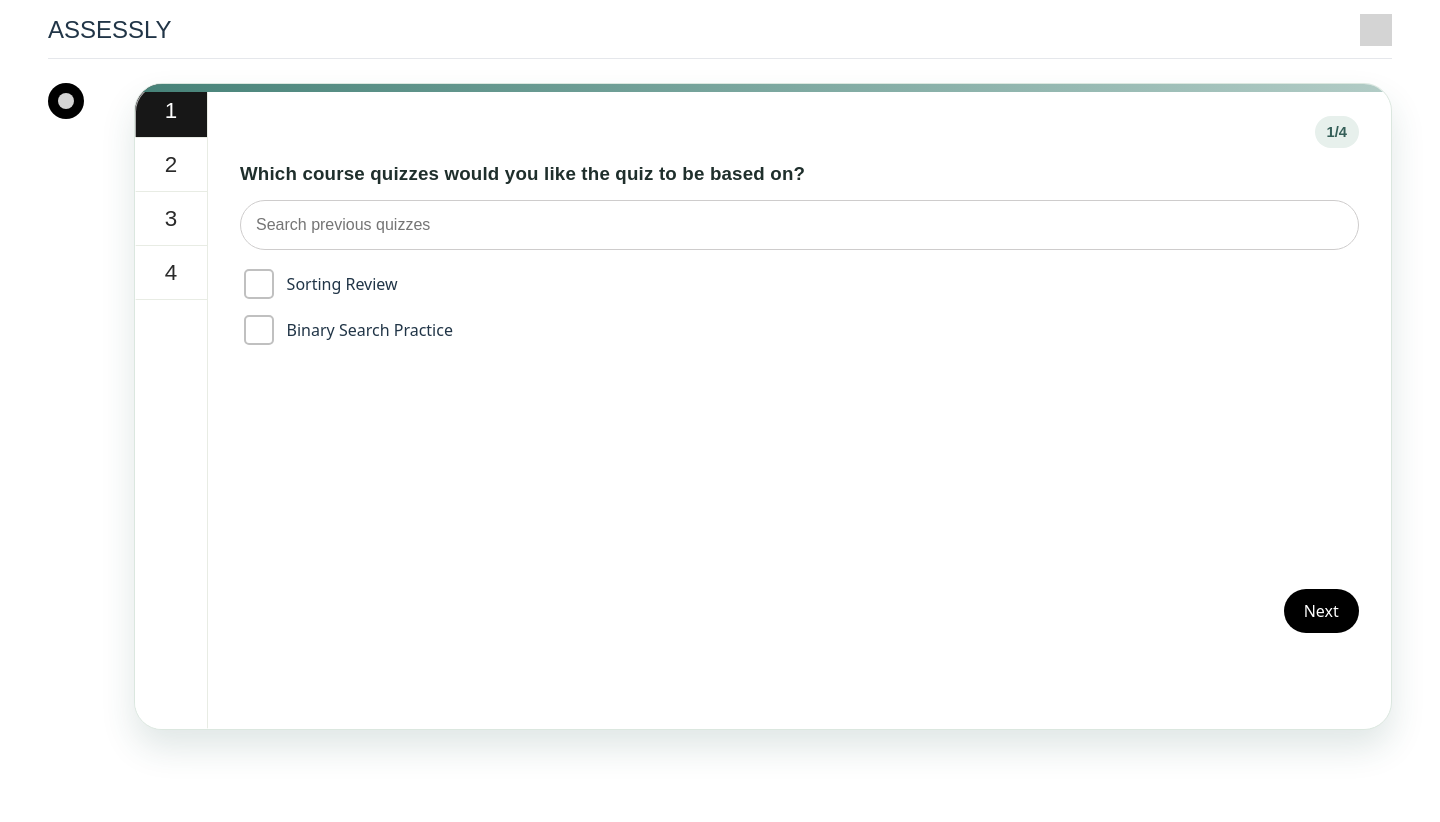
QuizStructure page › lets user click question numbers to navigate steps
The width and height of the screenshot is (1440, 822).
expect the heading "Which course quizzes would you like the quiz to be based on?" is shown: met, box [240,160,805,188]
What coordinates should you click on to do the following:
click the button named "Go to question 3"
I would click on:
 (171, 219)
Its box is [135,192,207,246].
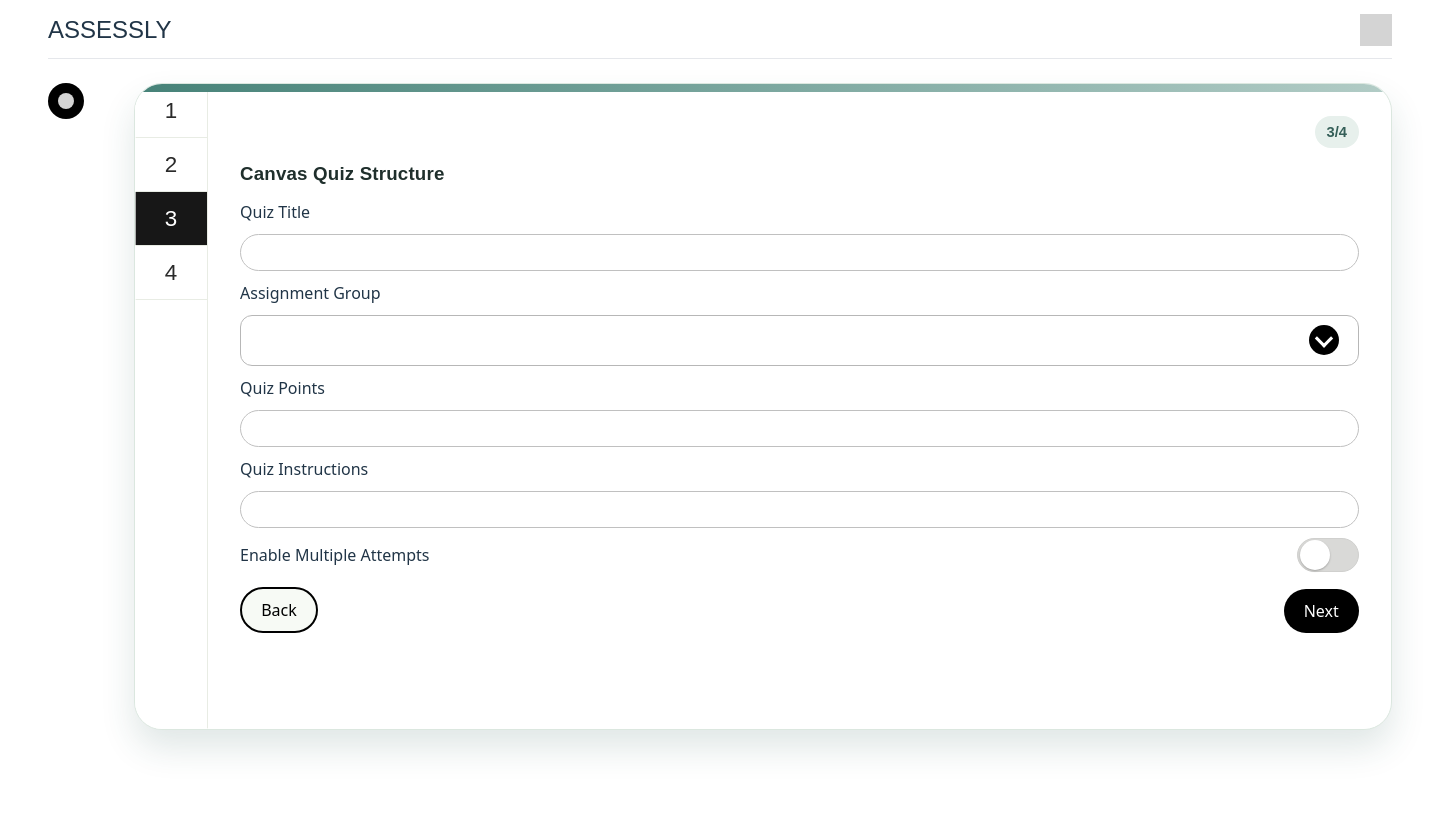
expect the heading "Canvas Quiz Structure" is shown: met, box [240,160,444,188]
What coordinates should you click on to do the following:
click the button named "Go to question 4"
I would click on:
 (171, 273)
Its box is [135,246,207,300].
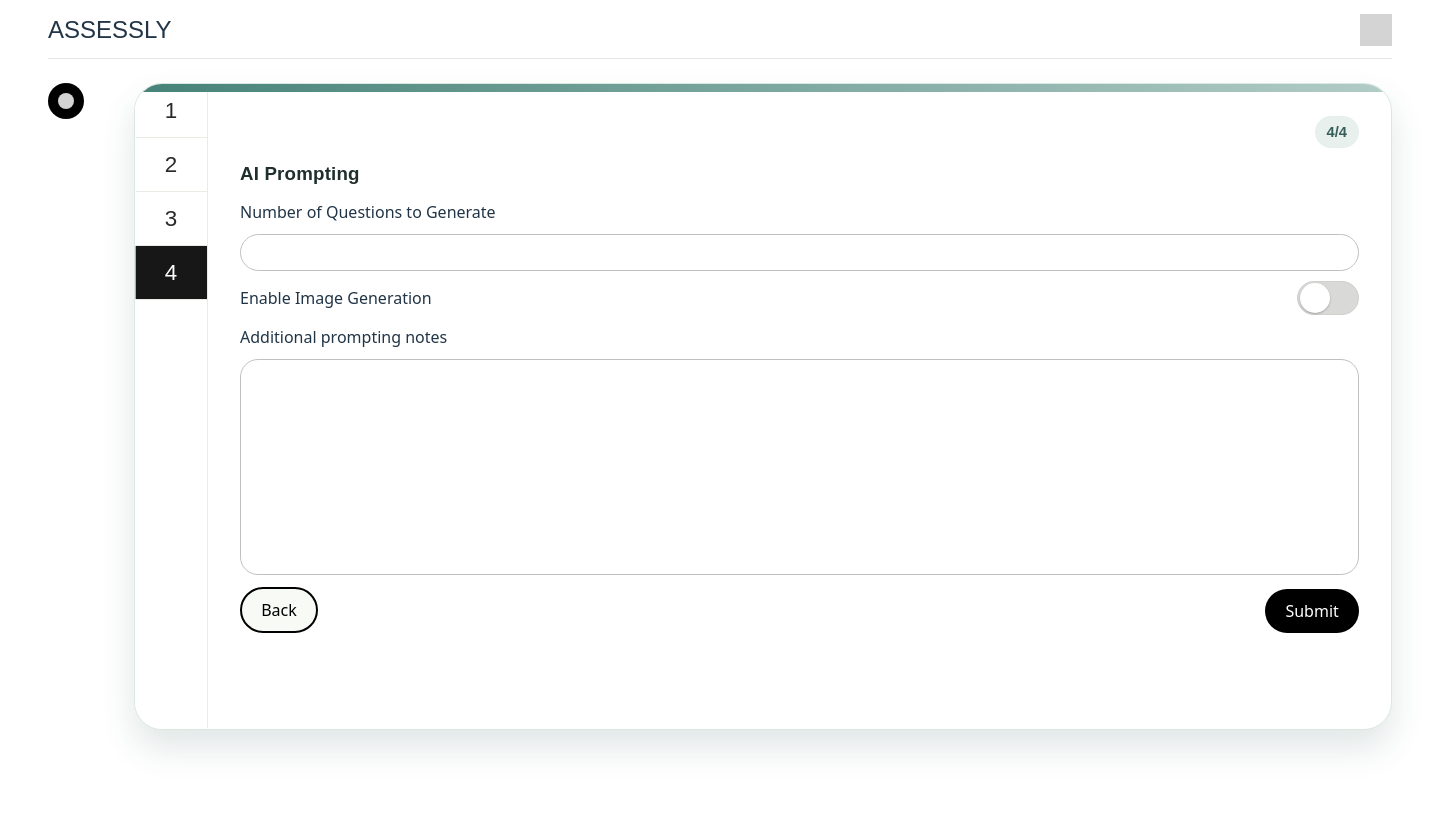
expect the heading "AI Prompting" is shown: met, box [240,160,360,188]
What coordinates should you click on to do the following:
click the button named "Go to question 1"
I would click on:
 (171, 111)
Its box is [135,84,207,138].
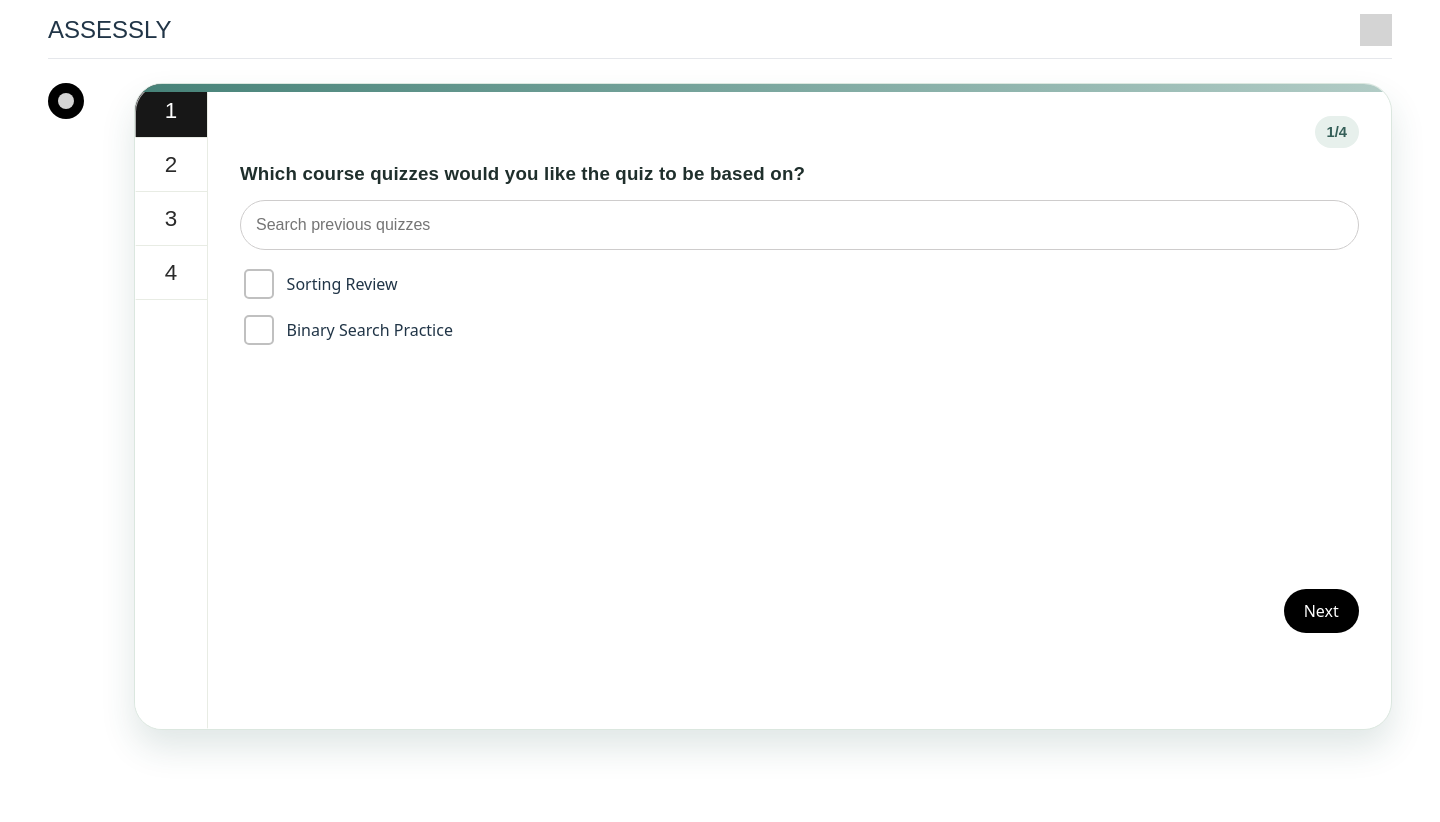
expect the heading "Which course quizzes would you like the quiz to be based on?" is shown: met, box [240,160,805,188]
